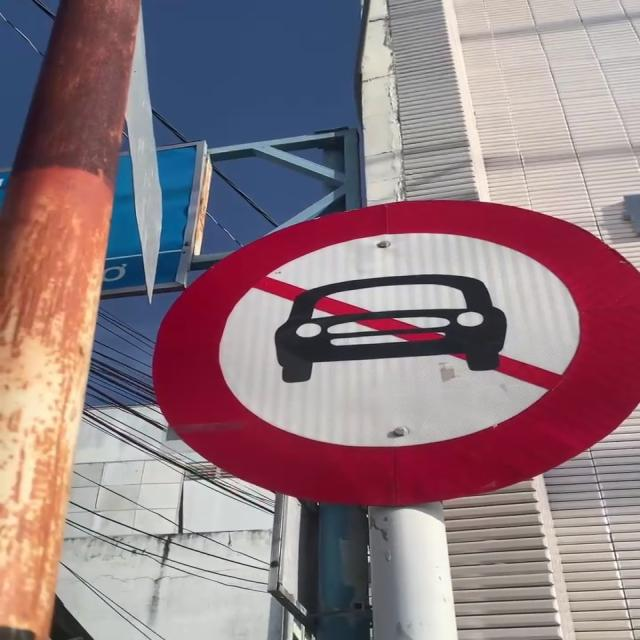Cam_O_To: (144, 192, 640, 511)
